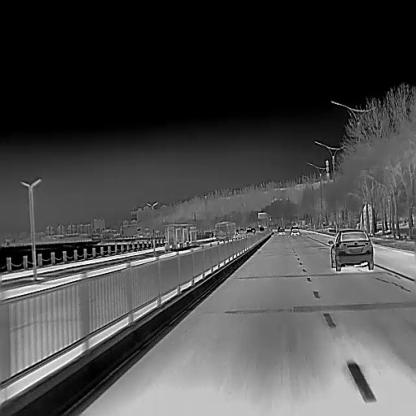bus: (213, 219, 237, 243)
car: (326, 226, 374, 271), (244, 225, 256, 237), (289, 223, 300, 235), (276, 225, 286, 235)
